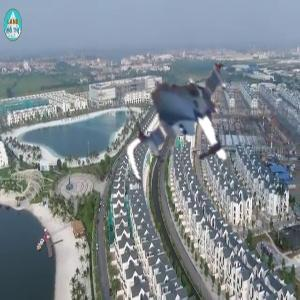drone: (111, 51, 258, 198)
